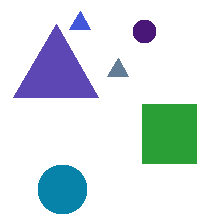circle: (38, 165, 86, 213), (133, 20, 155, 42)
rectangle: (142, 104, 196, 163)
triangle: (13, 24, 98, 97), (107, 58, 128, 76), (69, 11, 90, 29)
